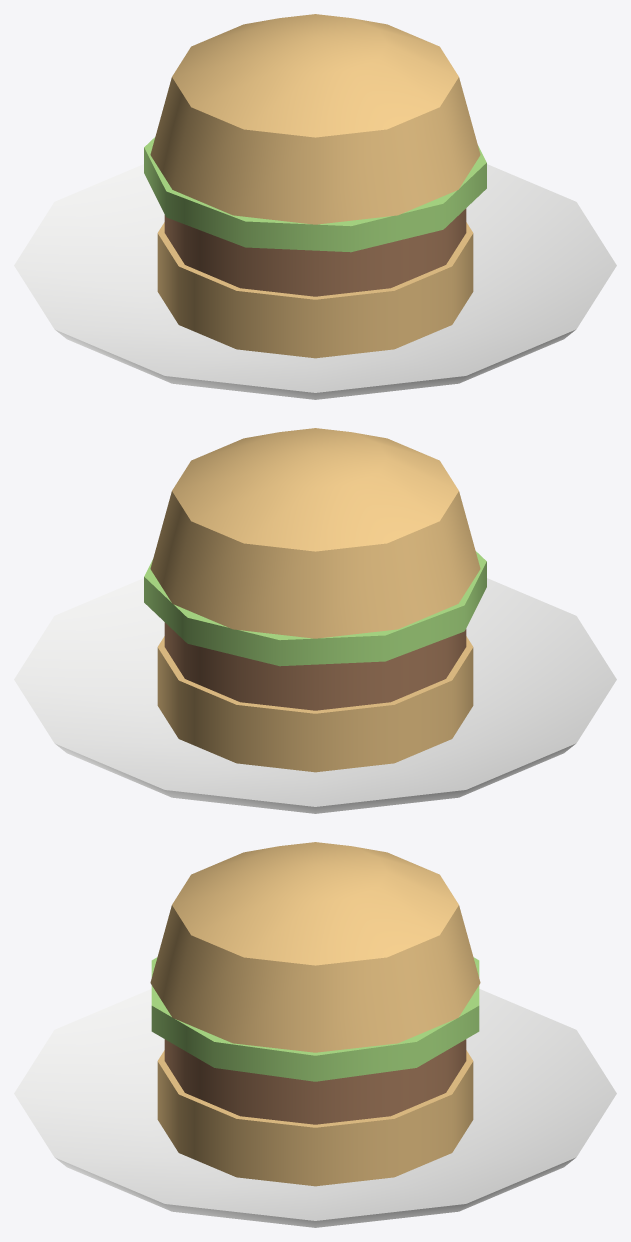
The model's file is kr_icon_deluxe.glb.
The picture shows the model from 3 angles, top to bottom: view 1: azimuth 30°, elevation 25°; view 2: azimuth 150°, elevation 25°; view 3: azimuth 270°, elevation 25°; orthographic projection.
Parts seen in each view (by area): view 1: vc_m0_r4, vc_m0_r2, vc_m0_r6; view 2: vc_m0_r4, vc_m0_r2, vc_m0_r6; view 3: vc_m0_r4, vc_m0_r2, vc_m0_r6.
Boxes of the visible parts, <box> form: vc_m0_r4: <box>144,14,486,358</box>; vc_m0_r2: <box>14,164,616,399</box>; vc_m0_r6: <box>164,208,466,296</box>; vc_m0_r4: <box>144,428,486,772</box>; vc_m0_r2: <box>14,578,616,813</box>; vc_m0_r6: <box>164,622,466,710</box>; vc_m0_r4: <box>150,842,480,1186</box>; vc_m0_r2: <box>14,989,616,1227</box>; vc_m0_r6: <box>164,1039,466,1124</box>.
Bounding box in the file's own units: 0.42 × 0.215 × 0.42.
